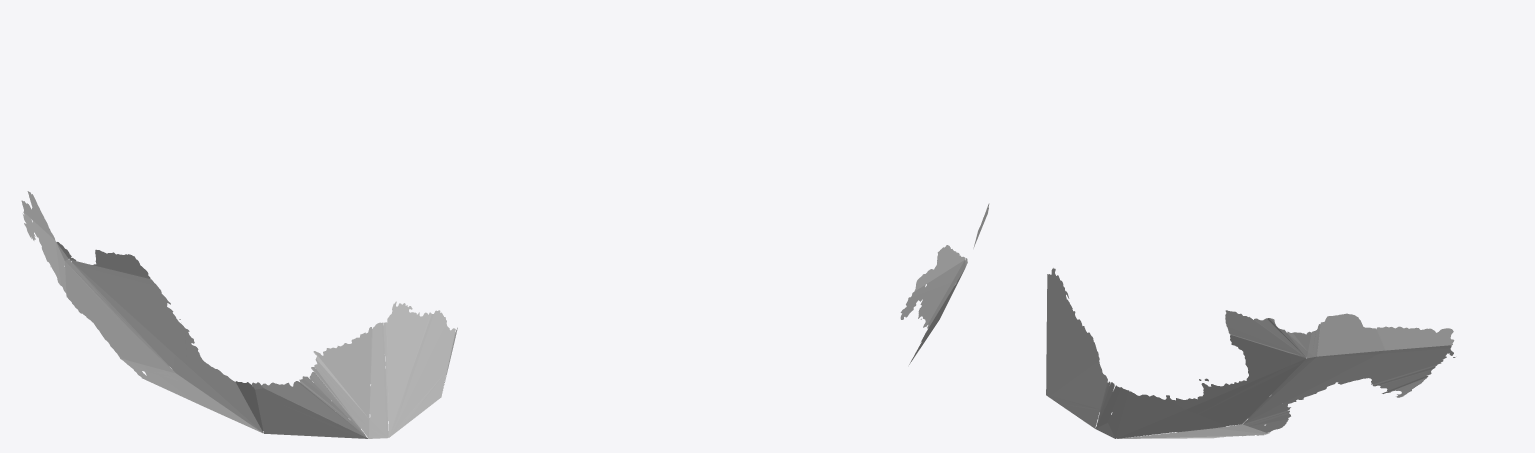
File: Beard_stubble_LOD2.glb
3 views of the same model, side by side, from view 1: azimuth 30°, elevation 25°; view 2: azimuth 150°, elevation 25°; view 3: azimuth 270°, elevation 25° (orthographic). The views are drawn at different scales.
Visible parts, largest first — view 1: Beard_stubble_LOD2; view 2: Beard_stubble_LOD2; view 3: Beard_stubble_LOD2.
Part boxes in pixels (x1=…): Beard_stubble_LOD2: x1=21, y1=191, x2=457, y2=438; Beard_stubble_LOD2: x1=900, y1=203, x2=989, y2=364; Beard_stubble_LOD2: x1=1046, y1=268, x2=1455, y2=438.
Size of the model in its own units: 0.2065 by 0.1228 by 0.1894.
Materials: 1 (1 with a texture image).
